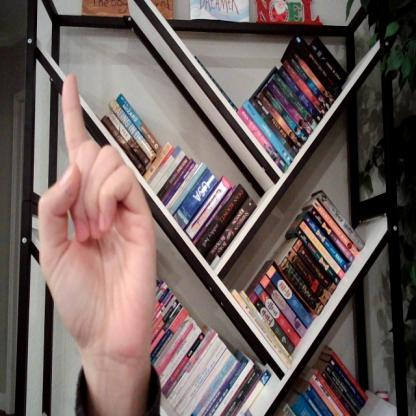one: (34, 68, 158, 366)
